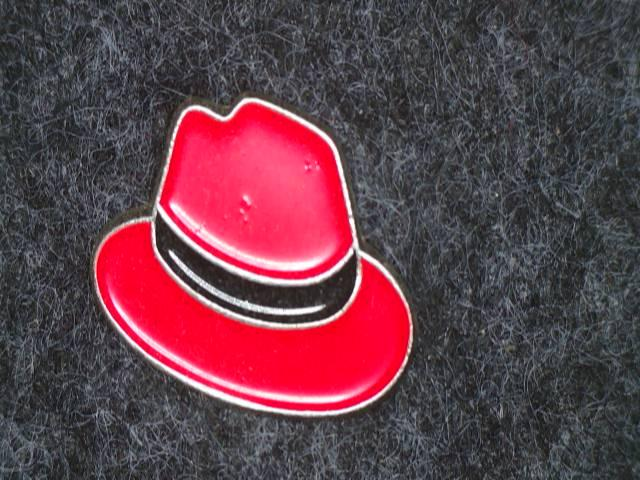Red-Hat: (61, 75, 466, 440)
